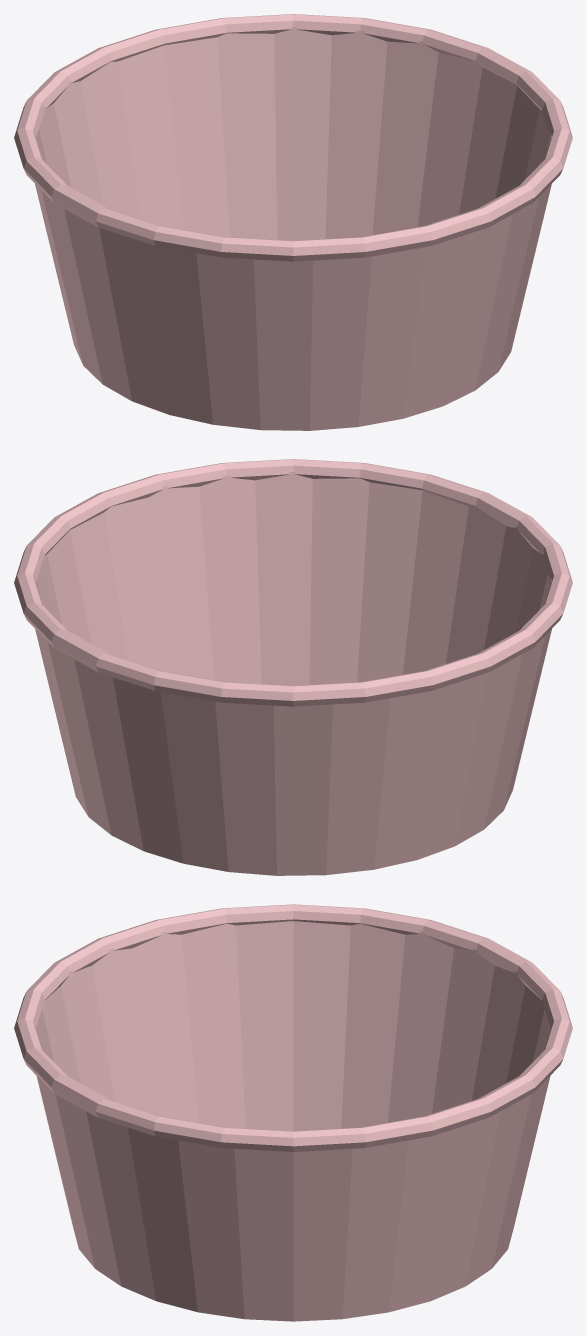
The model's file is foot_bucket.glb.
3 views of the same model, one above another, from view 1: azimuth 30°, elevation 25°; view 2: azimuth 150°, elevation 25°; view 3: azimuth 270°, elevation 25° (orthographic).
Parts seen in each view (by area): view 1: FootBucket; view 2: FootBucket; view 3: FootBucket.
Boxes of the visible parts, x1,y1,x2,y2 form: FootBucket: (14,14,572,430); FootBucket: (14,459,572,875); FootBucket: (14,904,572,1321).
Bounding box in the file's own units: 0.354 × 0.147 × 0.354.
